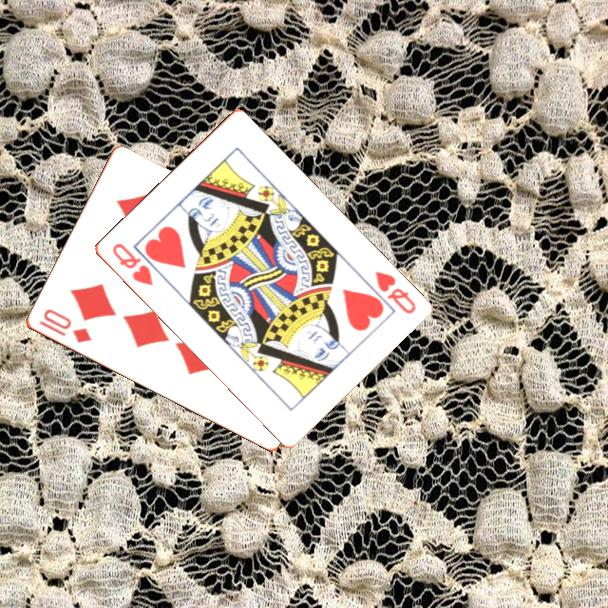d10: (35, 305, 94, 346)
h12: (108, 239, 156, 289), (371, 267, 418, 317)
